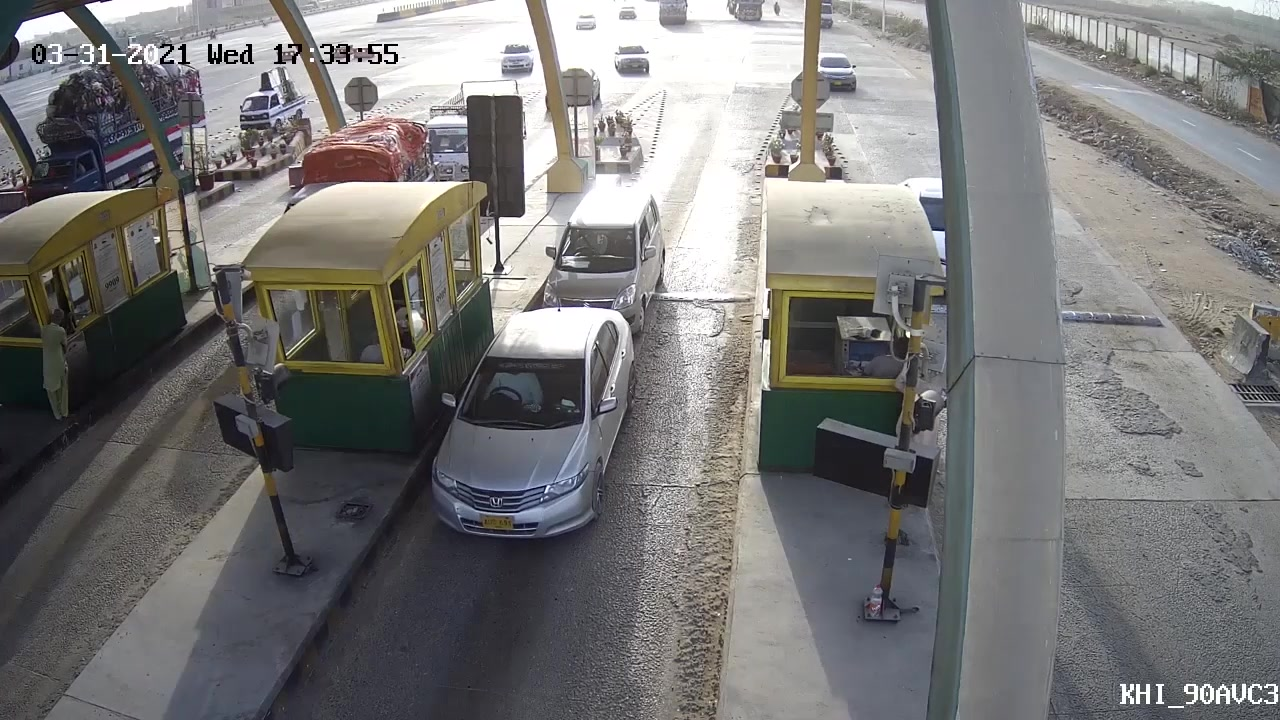F1: (417, 304, 642, 540)
